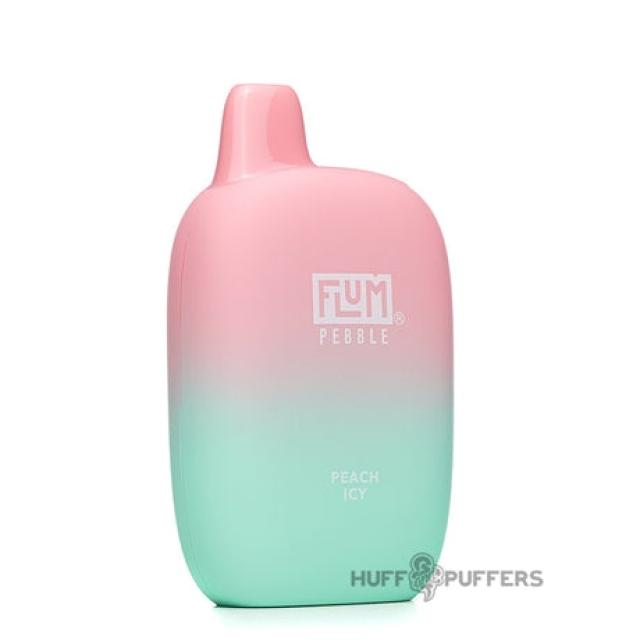Vapes: (164, 81, 455, 608)
